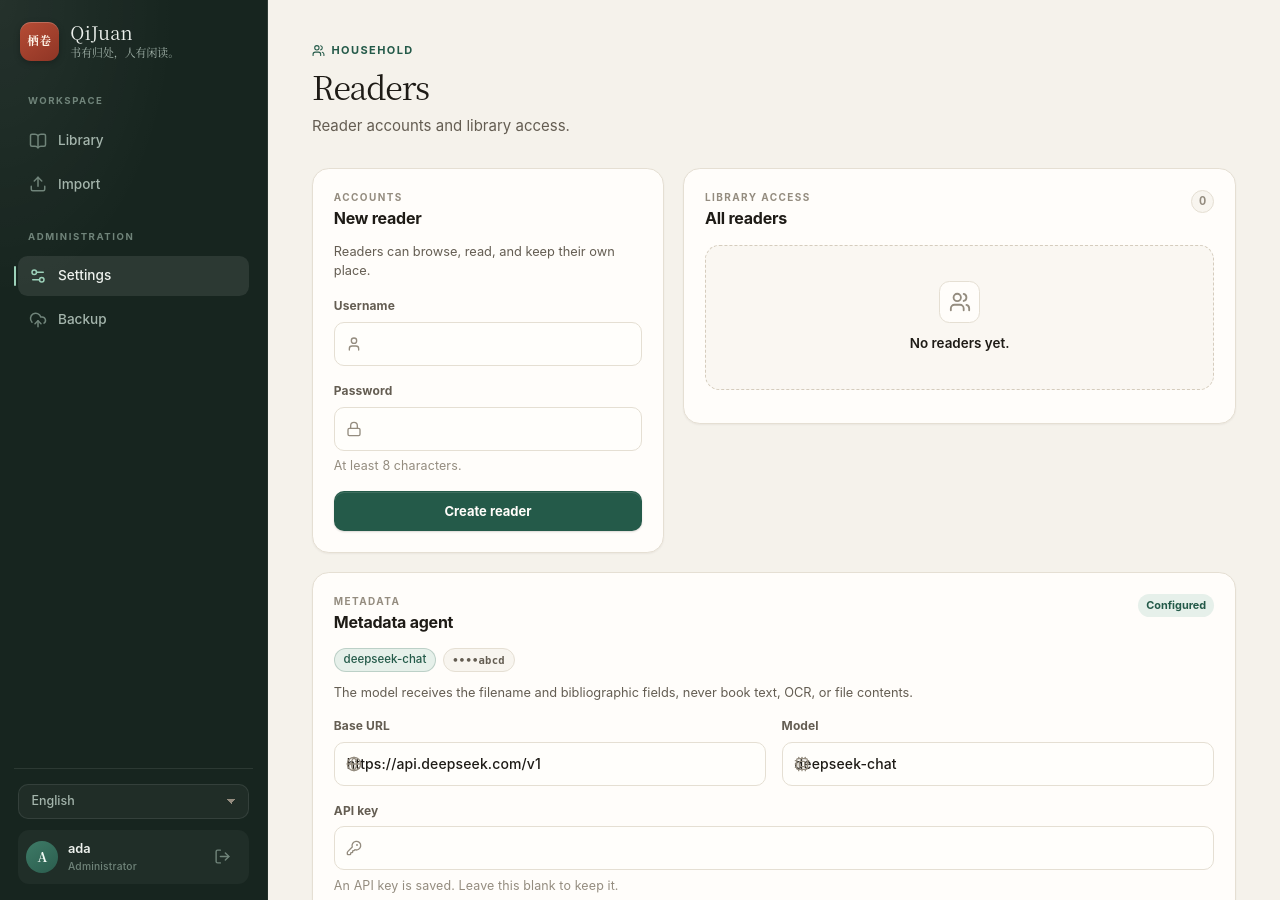
Test: settings metadata agent › keeps the saved key when the key field is blank
The image size is (1280, 900).
Type "deepseek-reasoner" into the field labelled "Model" at {"x": 998, "y": 764}, box [782,742,1214,786]
(page scrolled)
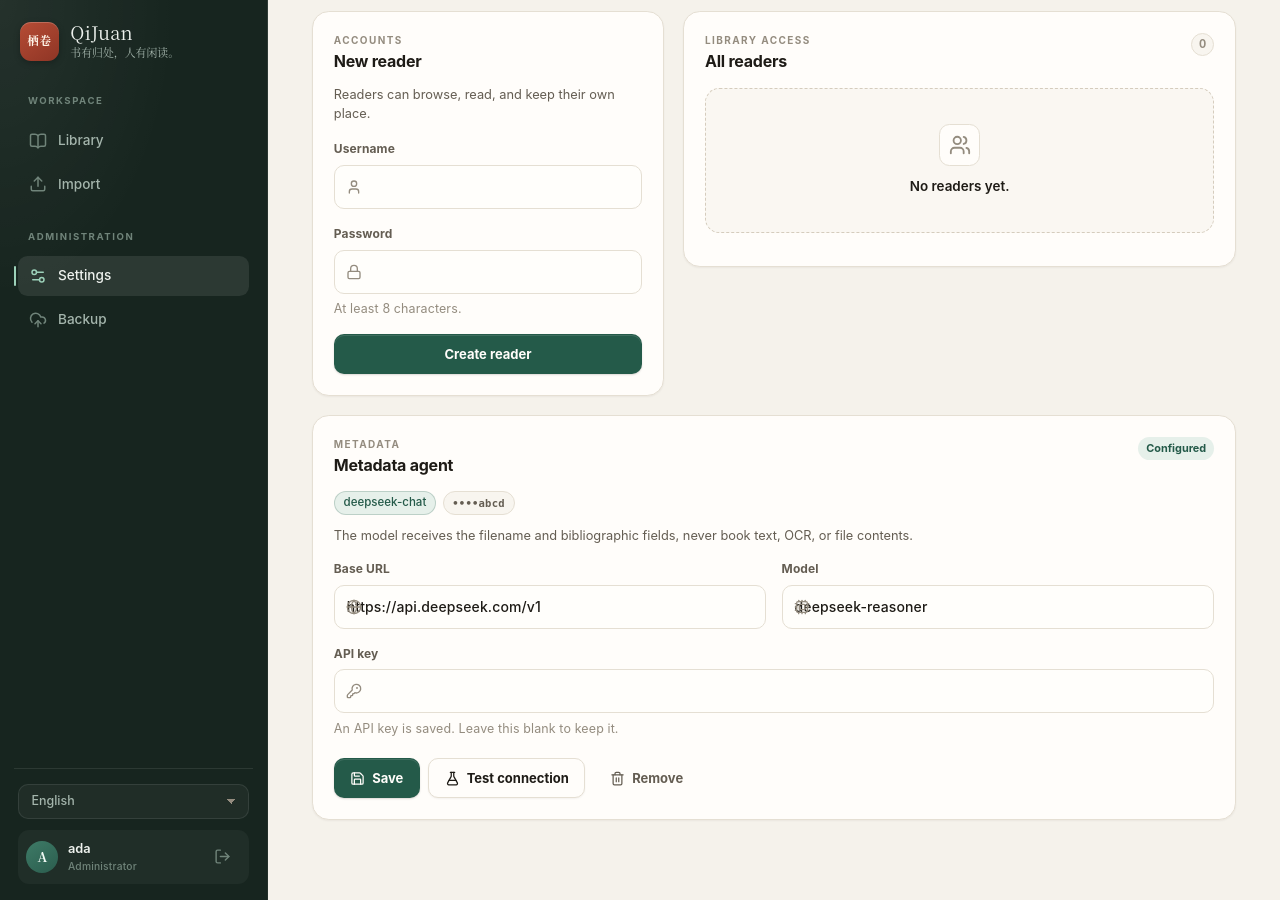
Click the button "Save" at {"x": 377, "y": 778}, box [334,758,420,798]
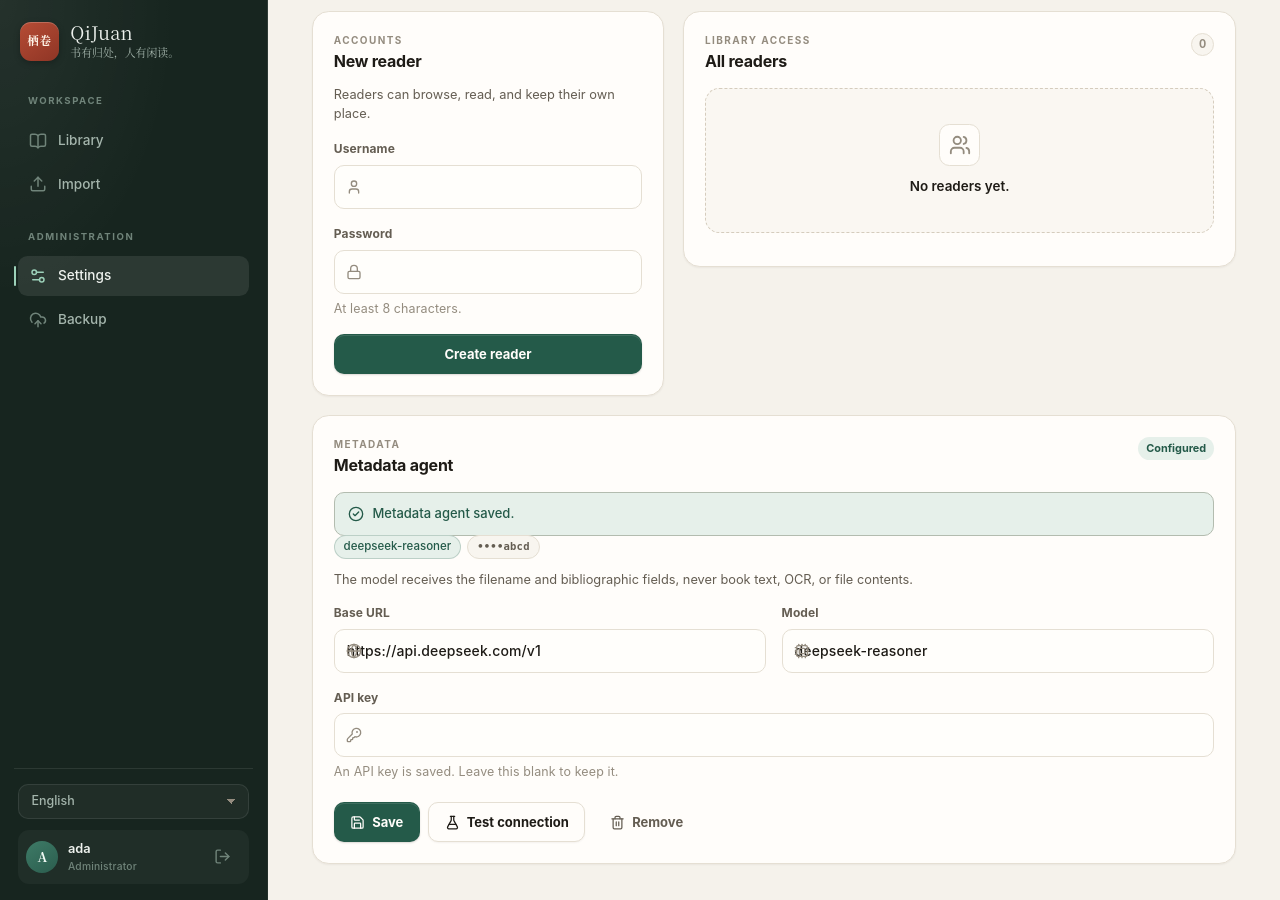
Expected: the text "••••abcd" is shown, [467,535,540,559]
Now the text "Metadata agent saved." is shown, box [334,492,1214,536]
